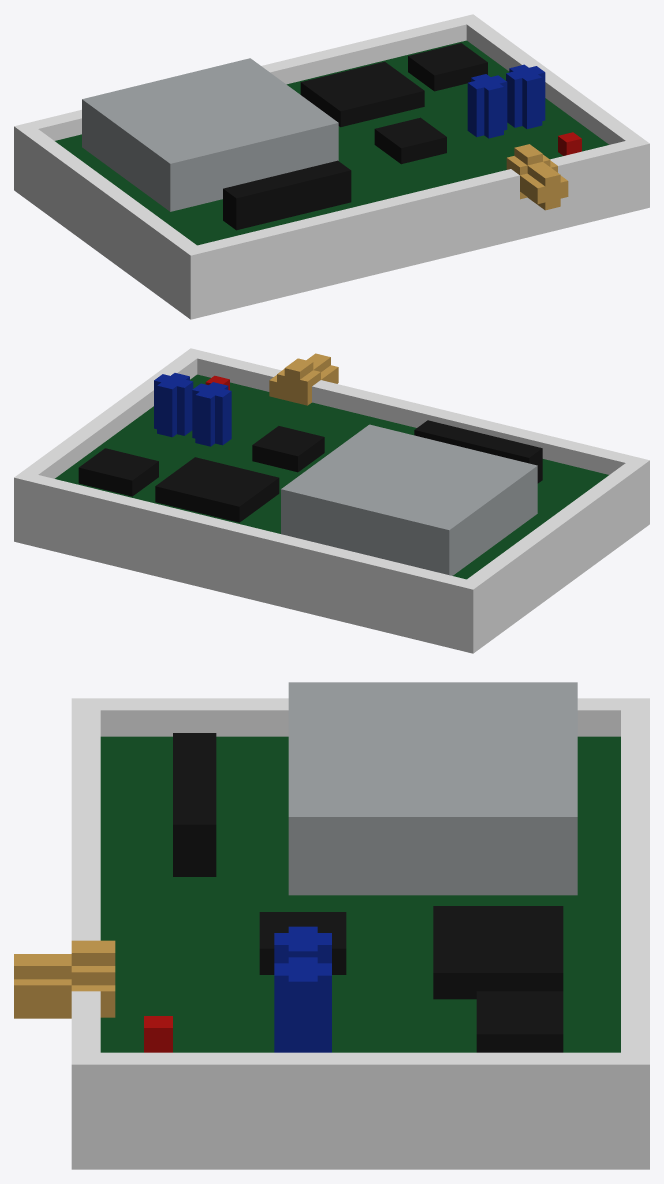
Rendered from transponder.glb.
The picture shows the model from 3 angles, top to bottom: view 1: azimuth 30°, elevation 25°; view 2: azimuth 150°, elevation 25°; view 3: azimuth 270°, elevation 25°; orthographic projection. The views are drawn at different scales.
Parts seen in each view (by area): view 1: transponder:compound; view 2: transponder:compound; view 3: transponder:compound.
Part boxes in pixels (x1,y1,x2,y2): transponder:compound: (14, 14, 649, 319); transponder:compound: (14, 348, 649, 653); transponder:compound: (14, 682, 649, 1169).
Bounding box in the file's own units: 0.12 × 0.024 × 0.088.
